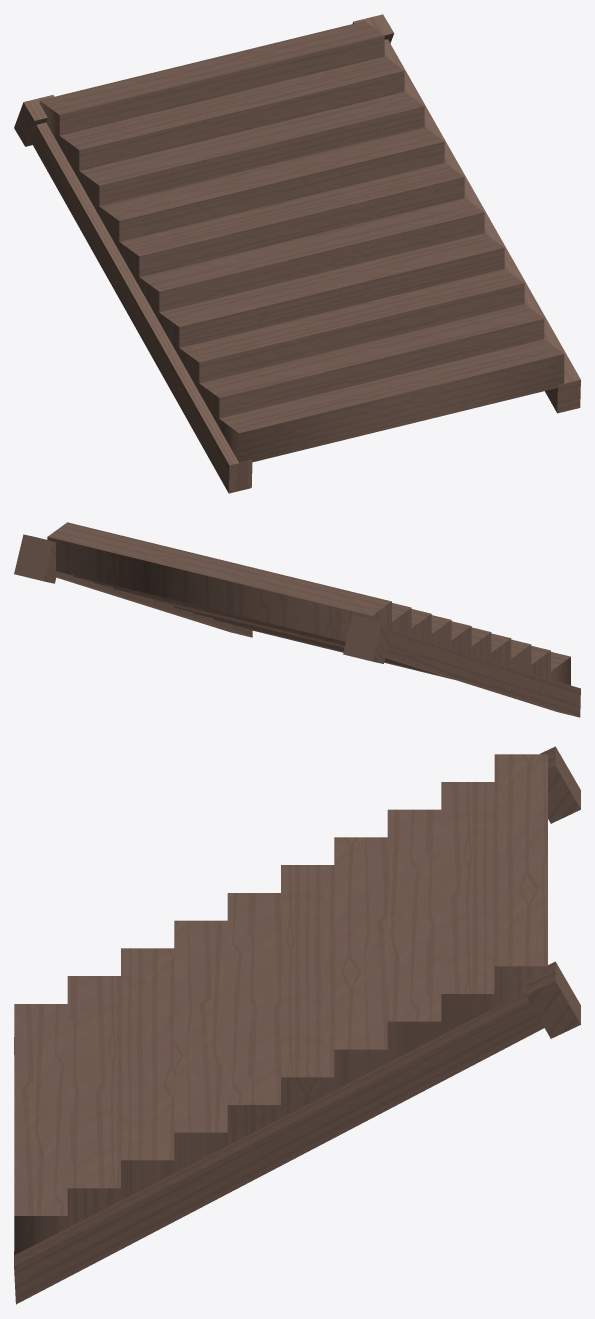
The model's file is Stairs.fbx.
3 renders of one model, top to bottom at view 1: azimuth 30°, elevation 25°; view 2: azimuth 150°, elevation 25°; view 3: azimuth 270°, elevation 25°, orthographic. The views are drawn at different scales.
Parts seen in each view (by area): view 1: Stair_Center, Beam_L, Beam_R, Plupp_L; view 2: Stair_Center, Beam_L, Plupp_L, Plupp_R, Beam_R; view 3: Stair_Center, Beam_R, Plupp_R, Plupp_L.
Part boxes in pixels (x1=…): Stair_Center: x1=39, y1=21, x2=564, y2=462; Beam_L: x1=30, y1=122, x2=252, y2=493; Beam_R: x1=384, y1=39, x2=580, y2=413; Plupp_L: x1=14, y1=95, x2=53, y2=146; Stair_Center: x1=47, y1=522, x2=570, y2=685; Beam_L: x1=385, y1=632, x2=580, y2=717; Plupp_L: x1=343, y1=614, x2=393, y2=663; Plupp_R: x1=14, y1=534, x2=57, y2=583; Beam_R: x1=56, y1=571, x2=252, y2=637; Stair_Center: x1=14, y1=754, x2=547, y2=1254; Beam_R: x1=14, y1=992, x2=544, y2=1304; Plupp_R: x1=525, y1=961, x2=580, y2=1038; Plupp_L: x1=539, y1=746, x2=580, y2=823.
Bounding box in the file's own units: 312 × 203 × 319.
